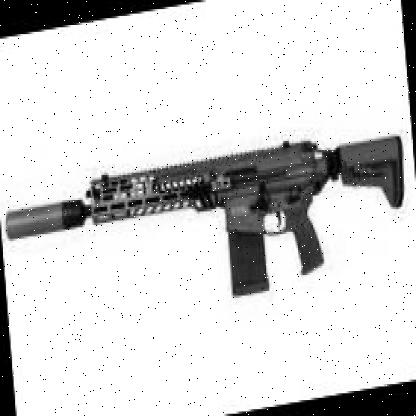rifle: (5, 111, 413, 339)
